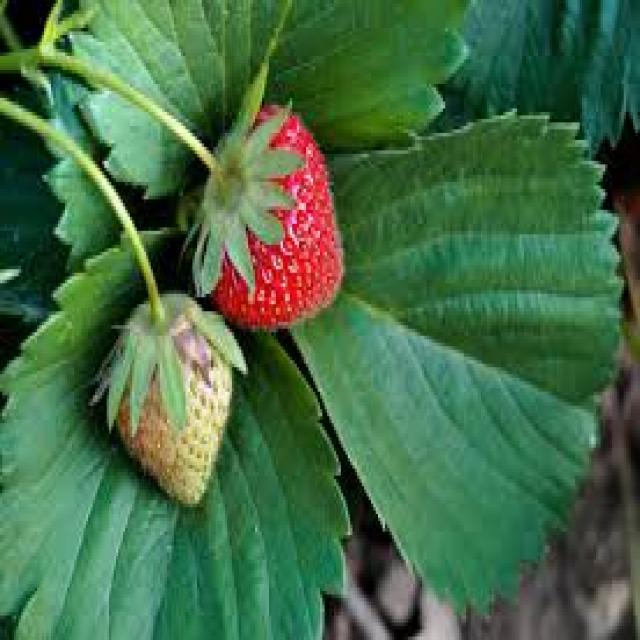immature: (112, 300, 233, 510)
